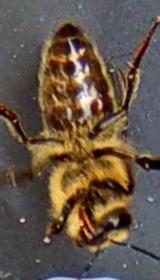varroa_mite: (89, 85, 116, 129)
